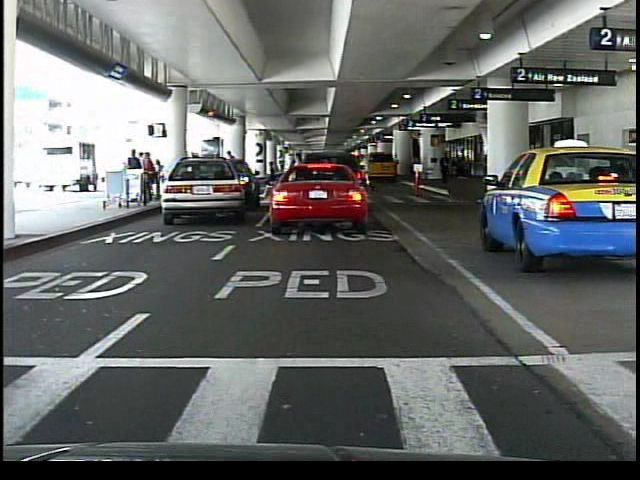person: (280, 147, 296, 203), (225, 149, 241, 201), (263, 160, 281, 206), (128, 147, 143, 201), (357, 150, 373, 192), (438, 151, 452, 186)
